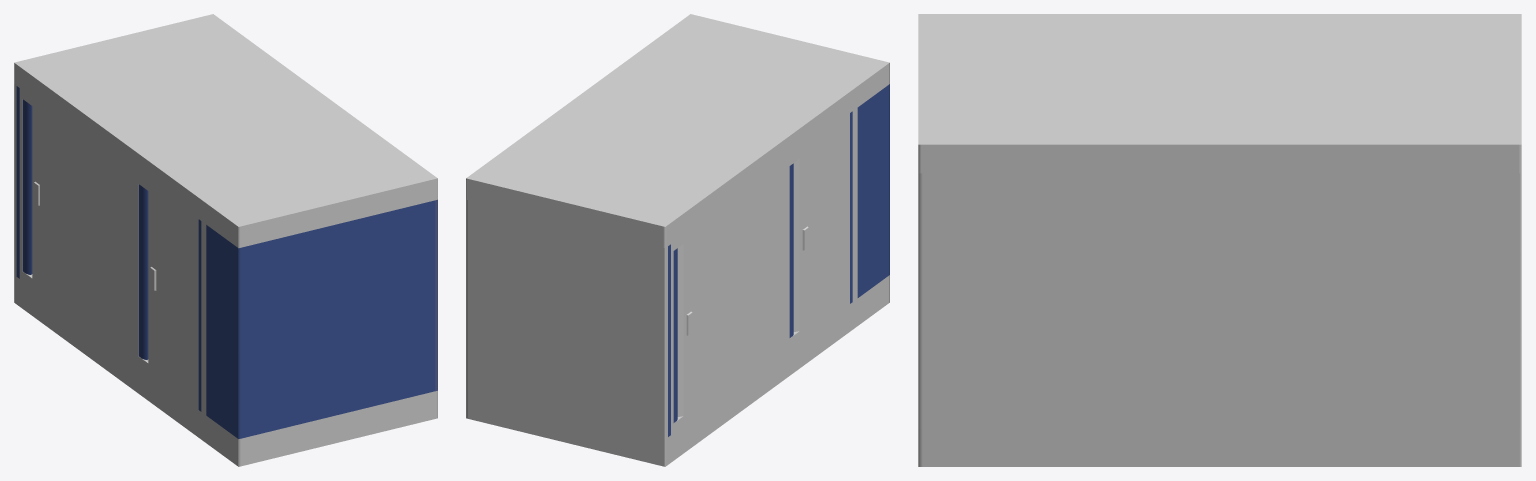
3 renders of one model, left to right at view 1: azimuth 30°, elevation 25°; view 2: azimuth 150°, elevation 25°; view 3: azimuth 270°, elevation 25°, orthographic. The views are drawn at different scales.
Visible parts, largest first — view 1: SM_H_Industrial_Tools_Cabinet_01E; view 2: SM_H_Industrial_Tools_Cabinet_01E; view 3: SM_H_Industrial_Tools_Cabinet_01E.
Part boxes in pixels (x1=…): SM_H_Industrial_Tools_Cabinet_01E: x1=14, y1=14, x2=437, y2=466; SM_H_Industrial_Tools_Cabinet_01E: x1=466, y1=14, x2=889, y2=466; SM_H_Industrial_Tools_Cabinet_01E: x1=918, y1=14, x2=1521, y2=466.
Bounding box in the file's own units: 62.6 × 32.31 × 36.91.
